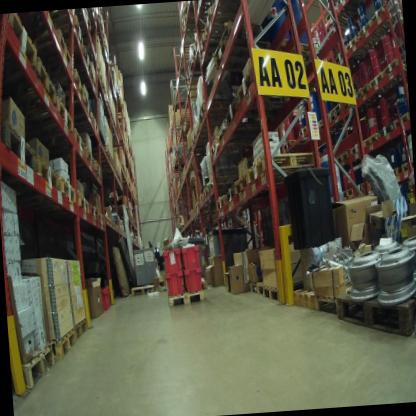pallet: (330, 277, 416, 346), (210, 29, 294, 81), (1, 88, 81, 141), (12, 332, 62, 396), (243, 149, 319, 189), (208, 14, 269, 60), (0, 62, 61, 107), (225, 92, 300, 128), (235, 65, 297, 108), (0, 13, 44, 69), (0, 116, 39, 179), (285, 275, 327, 330), (217, 112, 281, 147), (35, 20, 74, 77), (45, 14, 88, 52), (32, 148, 62, 202), (208, 131, 261, 158), (50, 322, 82, 366), (284, 32, 322, 66), (367, 1, 400, 38), (262, 269, 298, 302), (312, 283, 345, 316), (168, 287, 209, 313), (69, 110, 104, 140), (198, 96, 240, 120), (52, 67, 86, 96), (49, 131, 88, 156), (203, 7, 232, 38), (207, 170, 241, 196), (355, 20, 385, 49), (354, 80, 385, 108), (73, 64, 101, 94), (343, 35, 378, 59), (74, 158, 106, 184), (56, 171, 77, 210), (195, 117, 227, 141), (368, 73, 400, 97), (197, 29, 220, 59), (184, 58, 207, 88), (68, 9, 95, 34), (335, 0, 367, 21), (187, 132, 219, 152), (131, 279, 157, 303), (382, 58, 407, 82), (232, 170, 253, 198), (179, 3, 198, 32), (88, 201, 106, 230), (180, 12, 203, 34), (75, 50, 98, 71), (247, 276, 267, 298), (75, 317, 91, 344), (75, 188, 90, 216), (377, 121, 396, 143), (335, 49, 357, 68), (392, 109, 410, 132), (361, 131, 381, 151), (192, 272, 213, 291), (349, 136, 365, 159), (351, 181, 368, 202), (398, 154, 414, 176), (86, 140, 98, 169), (298, 121, 315, 140), (388, 159, 402, 182), (285, 134, 305, 150), (76, 93, 91, 113), (99, 141, 112, 164), (342, 98, 365, 111), (342, 184, 356, 204), (217, 188, 230, 209), (344, 0, 378, 8), (328, 106, 347, 120), (328, 100, 343, 117), (317, 116, 332, 133), (226, 184, 238, 205), (104, 156, 117, 174), (336, 149, 351, 163), (316, 111, 331, 125), (202, 183, 212, 203), (192, 36, 201, 57), (197, 192, 205, 208), (188, 208, 196, 218), (195, 201, 199, 213)
small_load_carrier: (179, 240, 204, 276), (182, 264, 207, 295), (161, 243, 185, 273), (163, 271, 187, 295), (101, 285, 114, 311)
